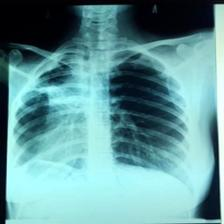tuberculosis: (15, 24, 192, 186)
